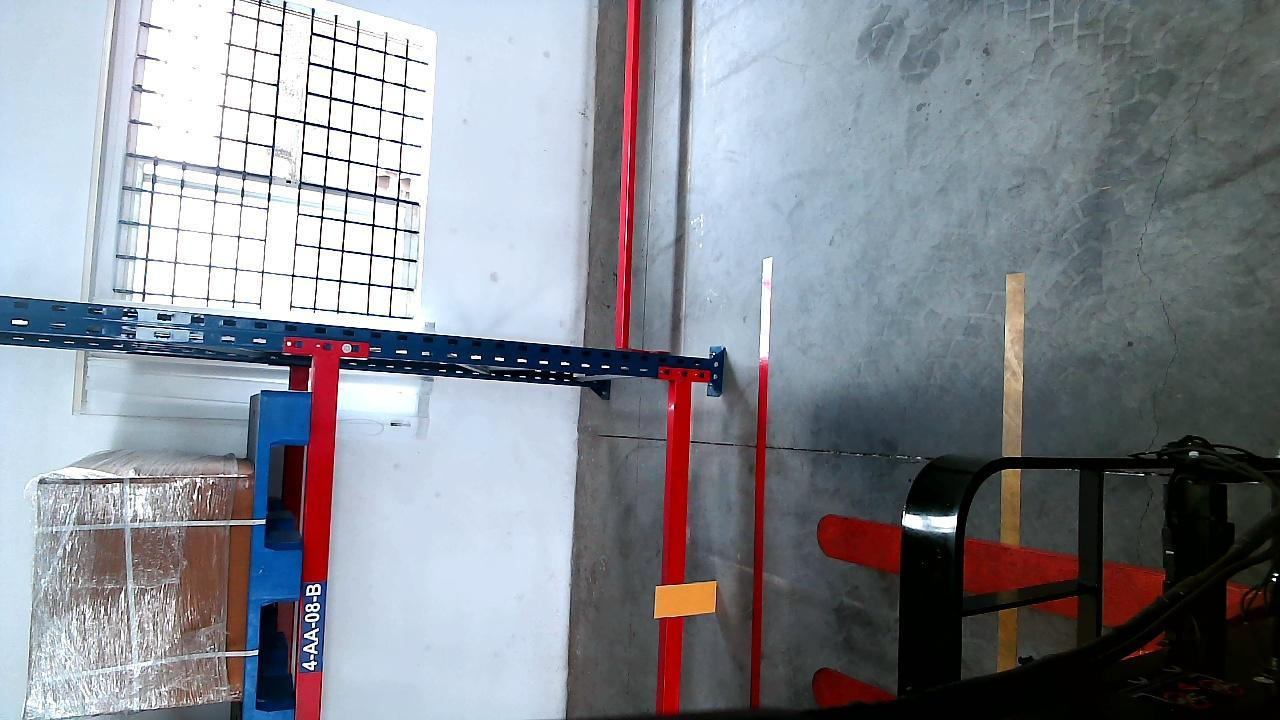red_line: (746, 260, 773, 720)
yellow_line: (1001, 264, 1025, 595)
